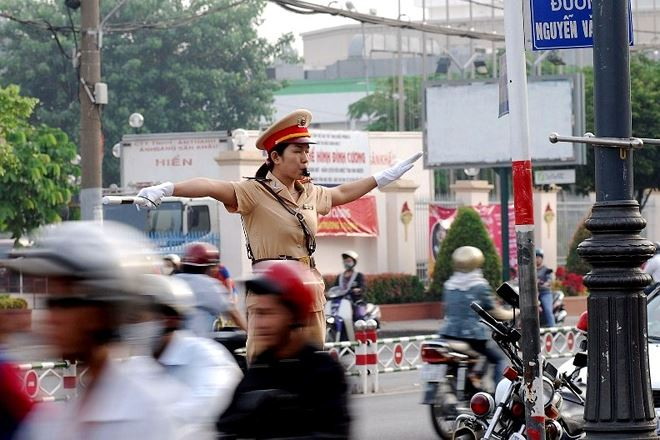police: (177, 113, 392, 301)
